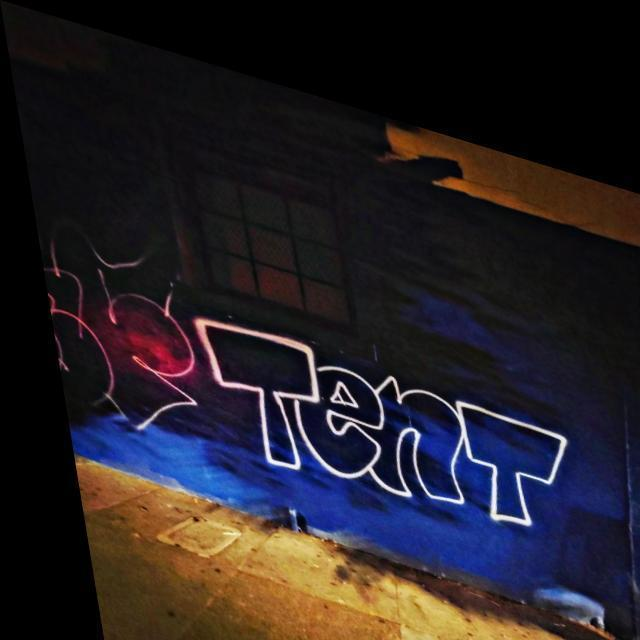nonspitting: (196, 316, 570, 528), (43, 227, 198, 428)
